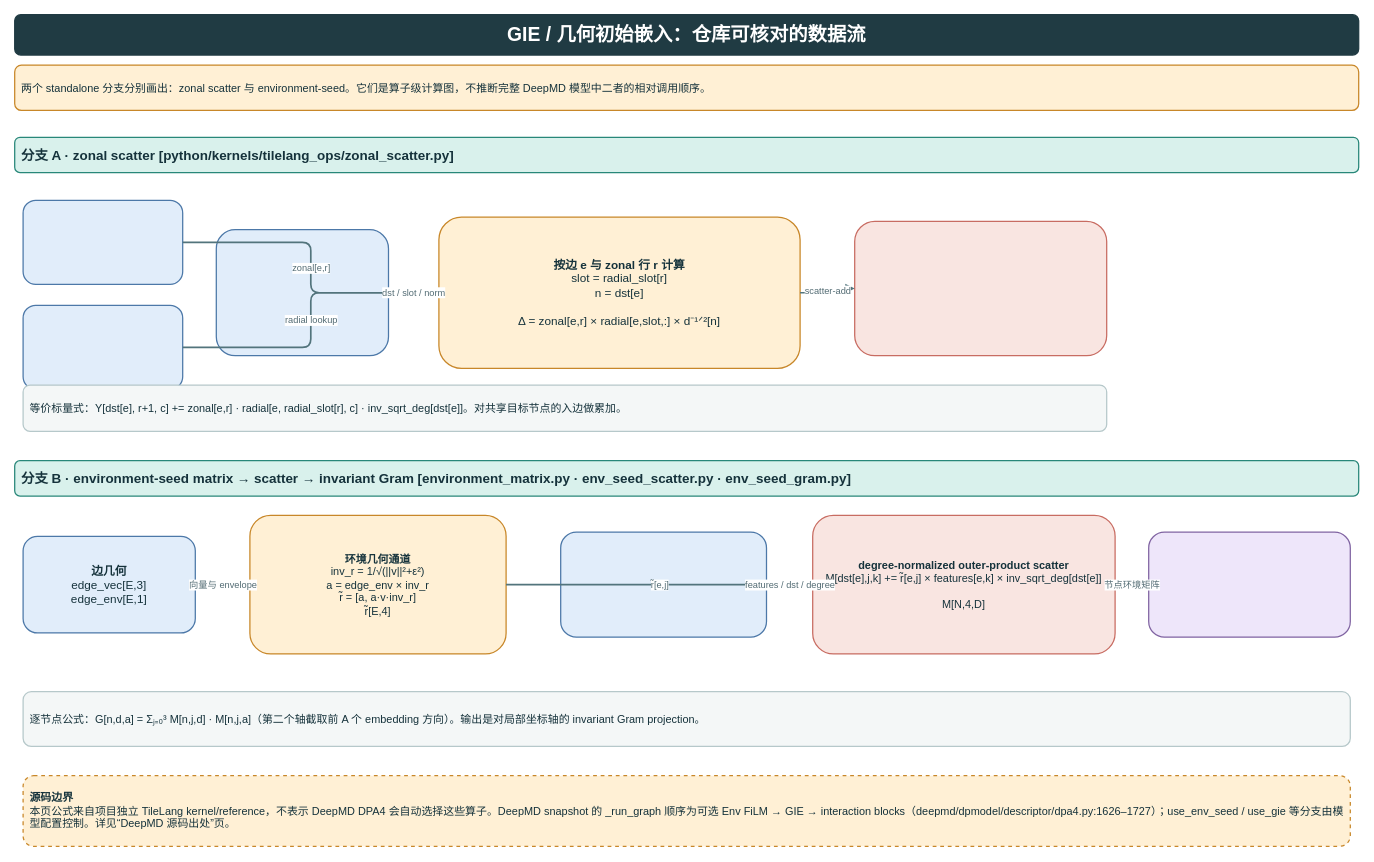
Some shapes in this 1374 by 862 pixel diagram are drawn without their labels. The centre of each missing label's shape, as x and y in pixels:
radial features radial[E,S,C]: the point at 102,347
zonal coupling z[E,R]: the point at 102,242
不变量 Gram 投影 G = Mᵀ · M[..., :A] G[N,D,A] A = axis_dim ≤ D: the point at 1249,584
目标节点累加 Y[N,R+1,C]，初始化为 0 Y[n,r+1,:] += Δ r=0 留作保留行: the point at 980,288
索引 / 归一化 dst[E] radial_slot[R] d⁻¹ᐟ²[N]: the point at 302,292
边 embedding 与索引 features[E,D] dst[E] inv_sqrt_deg[N]: the point at 663,584
